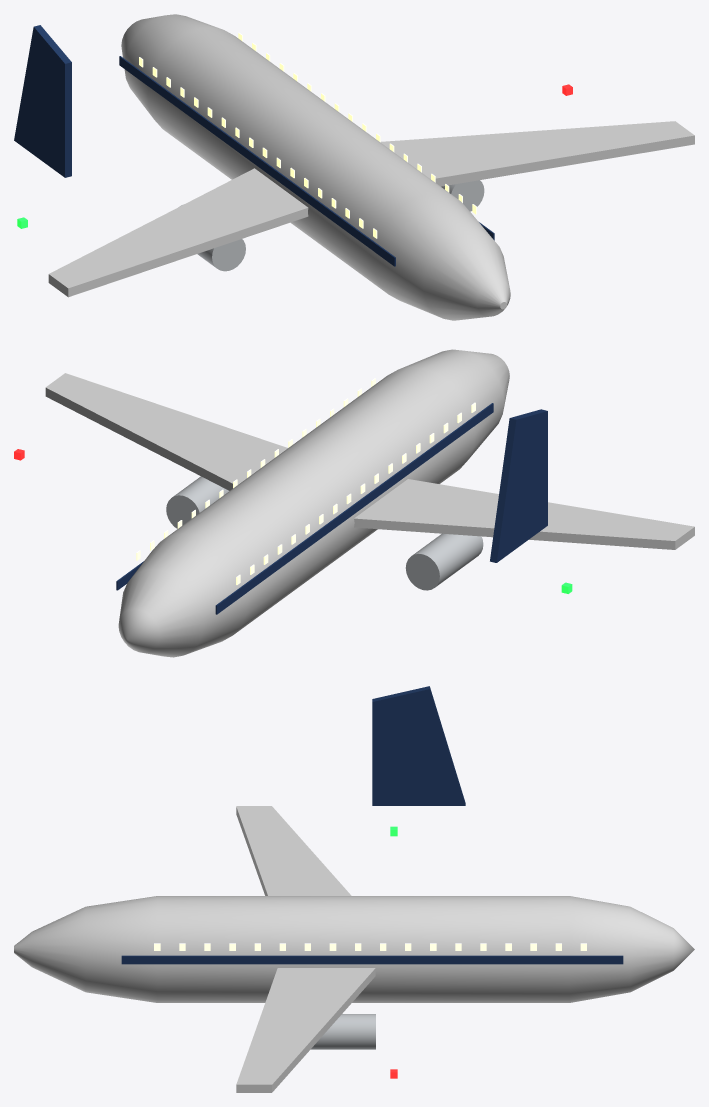
Rendered from plane_ext.glb.
3 views of the same model, one above another, from view 1: azimuth 30°, elevation 25°; view 2: azimuth 150°, elevation 25°; view 3: azimuth 270°, elevation 25° (orthographic). The views are drawn at different scales.
Visible parts, largest first — view 1: jet; view 2: jet; view 3: jet.
Boxes of the visible parts, x1=… form: jet: x1=14, y1=14, x2=694, y2=320; jet: x1=45, y1=349, x2=694, y2=657; jet: x1=14, y1=686, x2=694, y2=1092.
Bounding box in the file's own units: 18.4 × 6.3 × 19.
